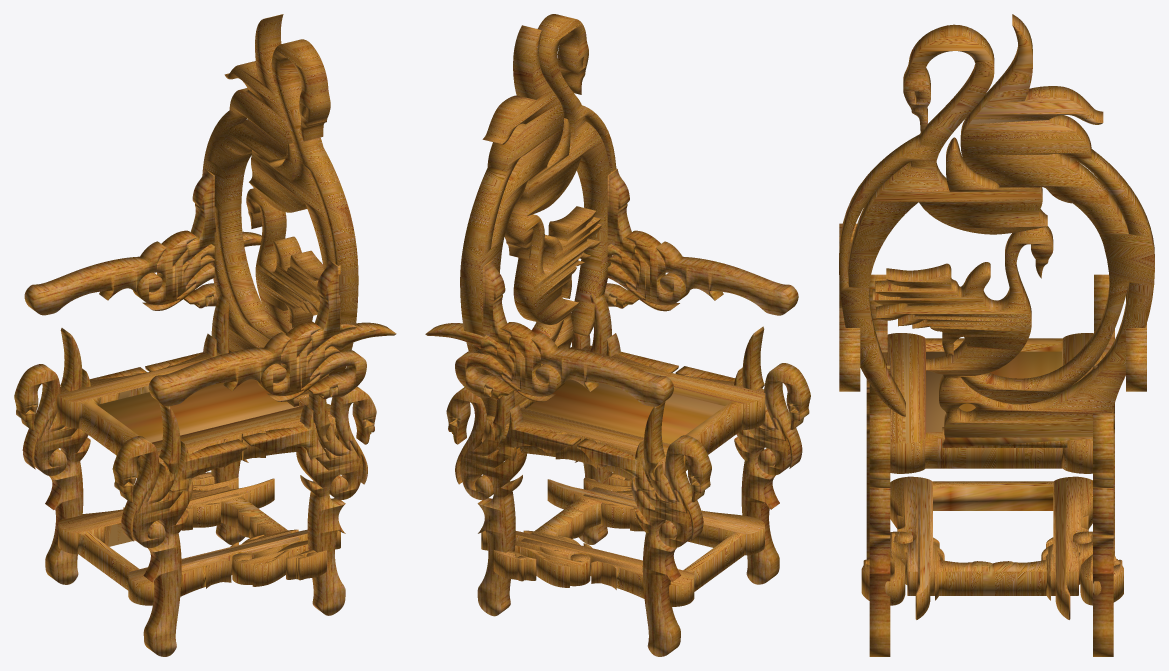
Rendered from Chair.fbx.
3 views of the same model, side by side, from view 1: azimuth 30°, elevation 25°; view 2: azimuth 150°, elevation 25°; view 3: azimuth 270°, elevation 25° (orthographic). The views are drawn at different scales.
Visible parts, largest first — view 1: material_0; view 2: material_0; view 3: material_0.
Boxes of the visible parts, box(x1,y1,x2,y2) form: material_0: box(14, 14, 396, 656); material_0: box(425, 14, 810, 656); material_0: box(839, 14, 1154, 656).
Bounding box in the file's own units: 1.99 × 4 × 1.79.
1 material, 1 textured.
